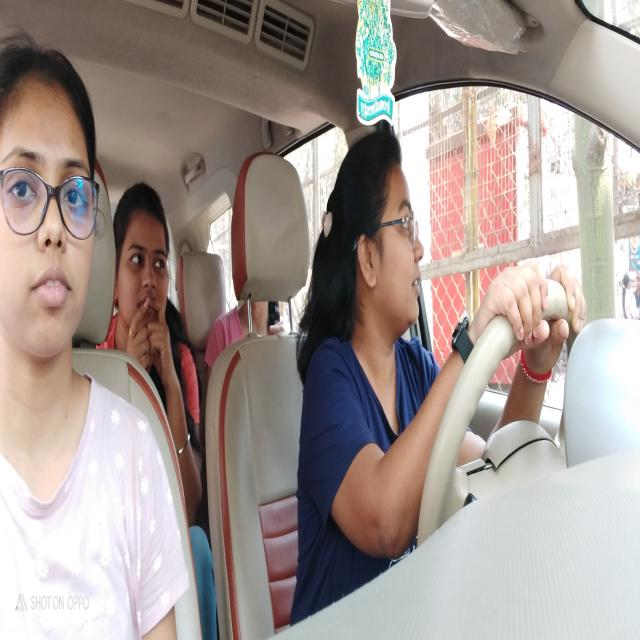LeftRight: (355, 144, 427, 326)
person: (3, 78, 100, 356), (116, 202, 173, 338), (232, 302, 278, 328)
